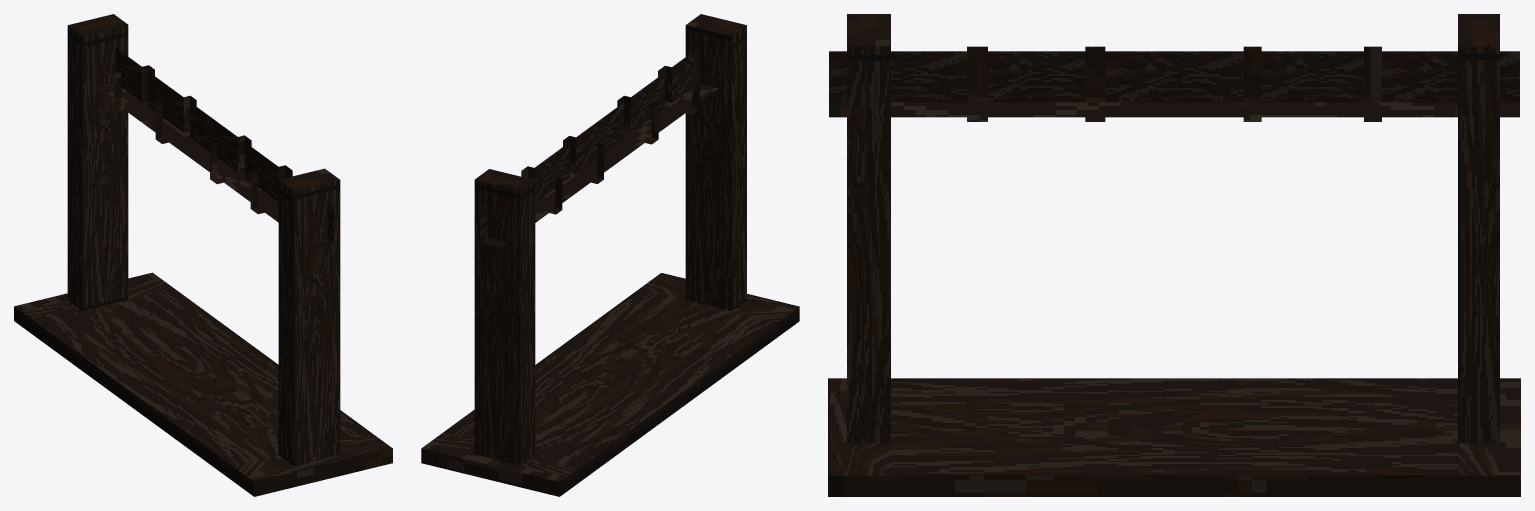
Rendered from Soporte-armas.glb.
The picture shows the model from 3 angles, left to right: view 1: azimuth 30°, elevation 25°; view 2: azimuth 150°, elevation 25°; view 3: azimuth 270°, elevation 25°; orthographic projection. The views are drawn at different scales.
Parts seen in each view (by area): view 1: basesoporte-col, soporte-col; view 2: basesoporte-col, soporte-col; view 3: basesoporte-col, soporte-col.
Boxes of the visible parts, <box> form: basesoporte-col: <box>14,14,392,496</box>; soporte-col: <box>95,48,333,247</box>; basesoporte-col: <box>421,14,799,496</box>; soporte-col: <box>480,48,718,247</box>; basesoporte-col: <box>828,14,1520,496</box>; soporte-col: <box>829,46,1519,121</box>.
Size of the model in its own units: 0.4652 by 0.9306 by 1.4.
1 material, 1 textured.
